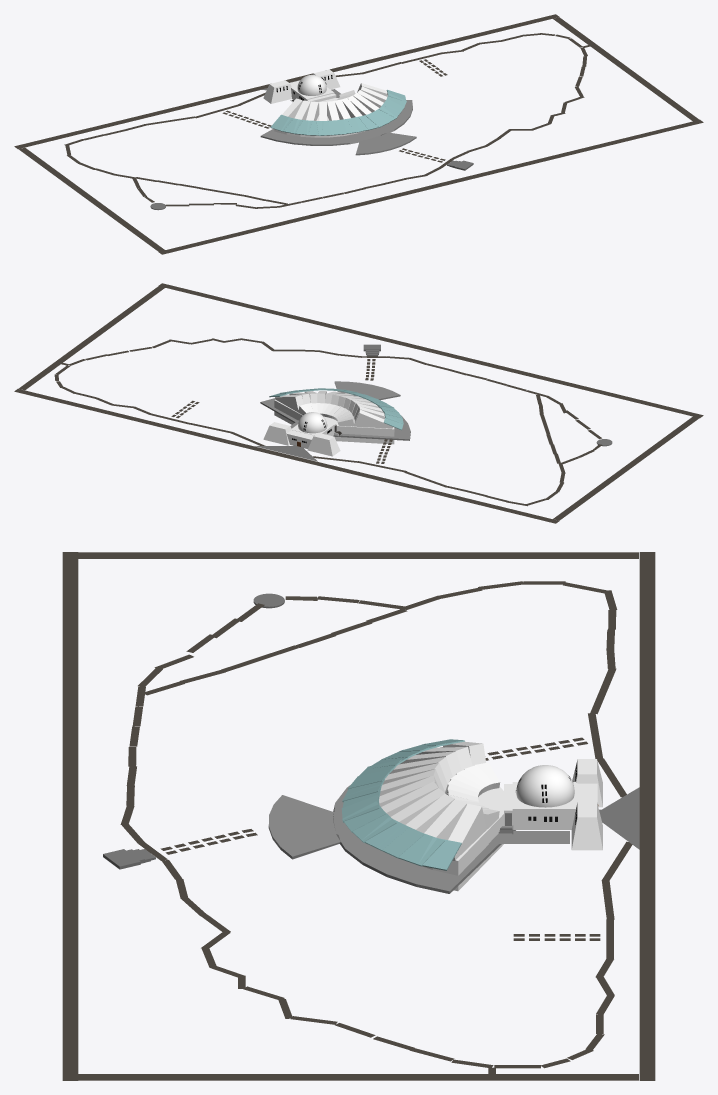
The model's file is asmundarsafn_nyasta_utgafan.obj.
The picture shows the model from 3 angles, top to bottom: view 1: azimuth 30°, elevation 25°; view 2: azimuth 150°, elevation 25°; view 3: azimuth 270°, elevation 25°; orthographic projection. The views are drawn at different scales.
Visible parts, largest first — view 1: Plane.001, Cube.047, Cube.033, Sphere, h_hlid; view 2: Plane.001, Cube.033, syningarsalur, Cube.047, h_hlid, Sphere, v_hlid; view 3: Plane.001, Cube.033, Cube.047, Sphere, innanhus, syningarsalur, v_hlid.
Part boxes in pixels (box(x1,y1,x2,y2)): Plane.001: box(14, 14, 703, 254); Cube.047: box(270, 89, 406, 135); Cube.033: box(282, 83, 387, 120); Sphere: box(297, 74, 326, 95); h_hlid: box(263, 80, 291, 103); Plane.001: box(14, 283, 703, 523); Cube.033: box(275, 391, 392, 428); syningarsalur: box(274, 399, 394, 444); Cube.047: box(269, 388, 403, 430); h_hlid: box(307, 433, 340, 456); Sphere: box(298, 412, 327, 433); v_hlid: box(263, 422, 291, 445); Plane.001: box(62, 552, 655, 1080); Cube.033: box(379, 741, 500, 860); Cube.047: box(341, 739, 464, 870); Sphere: box(516, 765, 574, 807); innanhus: box(512, 782, 577, 829); syningarsalur: box(422, 787, 503, 891); v_hlid: box(571, 801, 602, 850).
Bounding box in the file's own units: 160 × 9.13 × 75.73.
